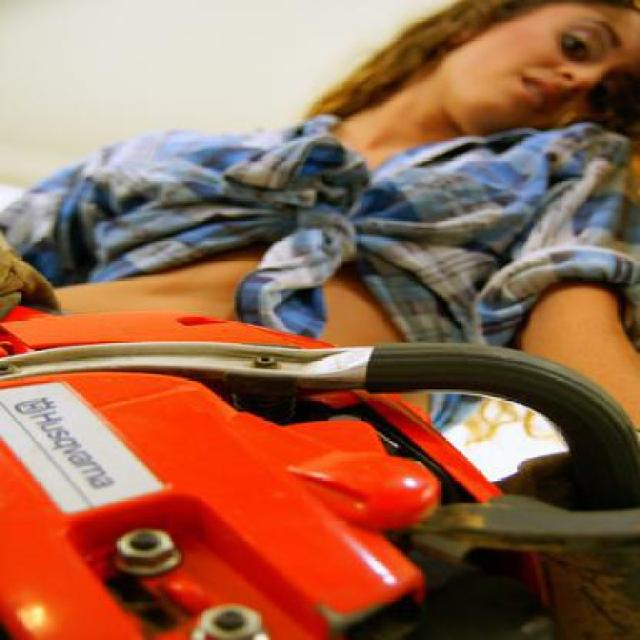Chainsaw: (0, 304, 637, 638)
